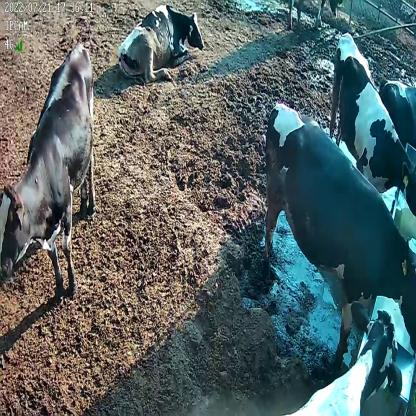cow: (263, 103, 416, 364), (0, 39, 97, 307), (328, 33, 416, 222), (117, 2, 204, 86)
